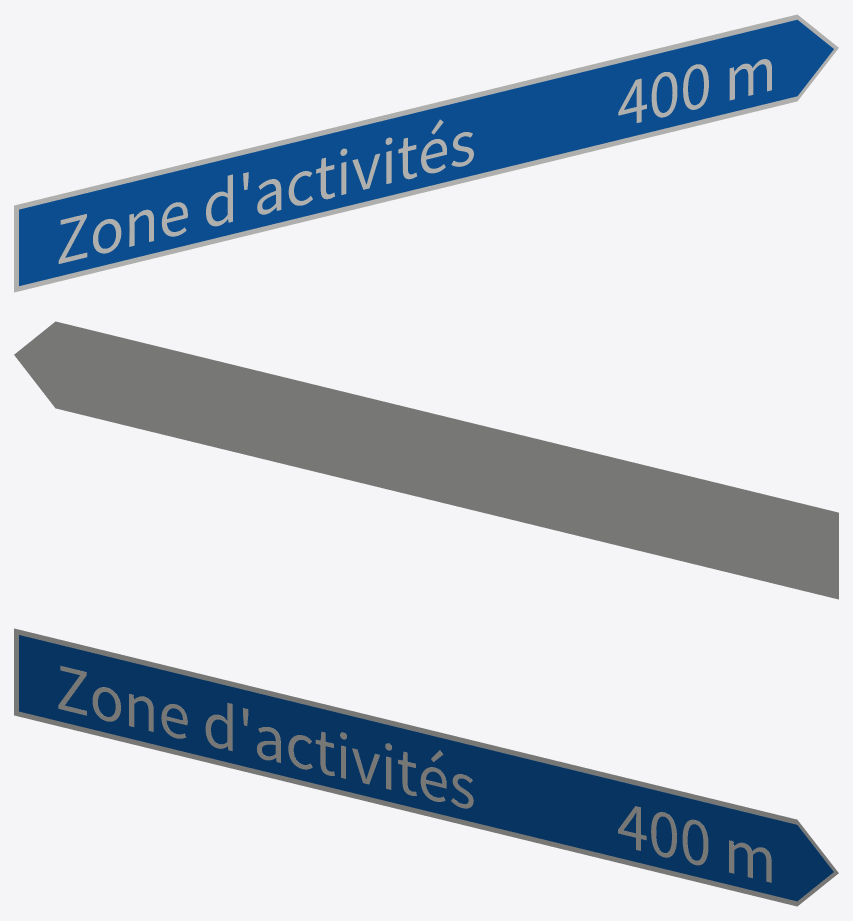
3 renders of one model, top to bottom at view 1: azimuth 30°, elevation 25°; view 2: azimuth 150°, elevation 25°; view 3: azimuth 330°, elevation 25°, orthographic.
Parts seen in each view (by area): view 1: Dc29_reg01, Dc29_lis00, Dc29_txt02, Dc29_txt03; view 2: Dc29_lis00; view 3: Dc29_reg01, Dc29_lis00, Dc29_txt02, Dc29_txt03.
Boxes of the visible parts, x1,y1,x2,y2 form: Dc29_reg01: [19, 19, 833, 285]; Dc29_lis00: [14, 14, 838, 292]; Dc29_txt02: [58, 119, 473, 263]; Dc29_txt03: [618, 59, 771, 122]; Dc29_lis00: [14, 321, 838, 599]; Dc29_reg01: [19, 635, 833, 901]; Dc29_lis00: [14, 628, 838, 906]; Dc29_txt02: [58, 666, 473, 808]; Dc29_txt03: [618, 806, 771, 882].
Size of the model in its own units: 2.48 by 0.25 by 0.0016.
